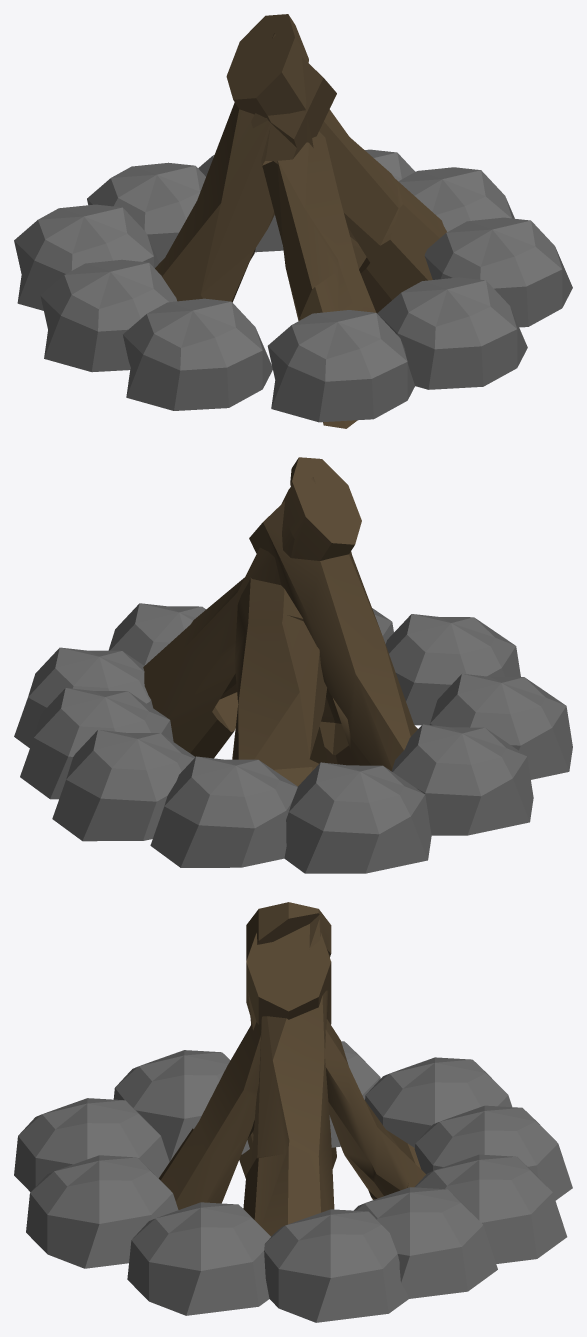
The model's file is campfire.fbx.
3 views of the same model, one above another, from view 1: azimuth 30°, elevation 25°; view 2: azimuth 150°, elevation 25°; view 3: azimuth 270°, elevation 25° (orthographic). The views are drawn at different scales.
Parts seen in each view (by area): view 1: campfire; view 2: campfire; view 3: campfire.
Part boxes in pixels (<box>): campfire: <box>14,14,572,428</box>; campfire: <box>14,457,572,873</box>; campfire: <box>14,902,572,1322</box>.
Size of the model in its own units: 7.44 by 5.55 by 7.35.
